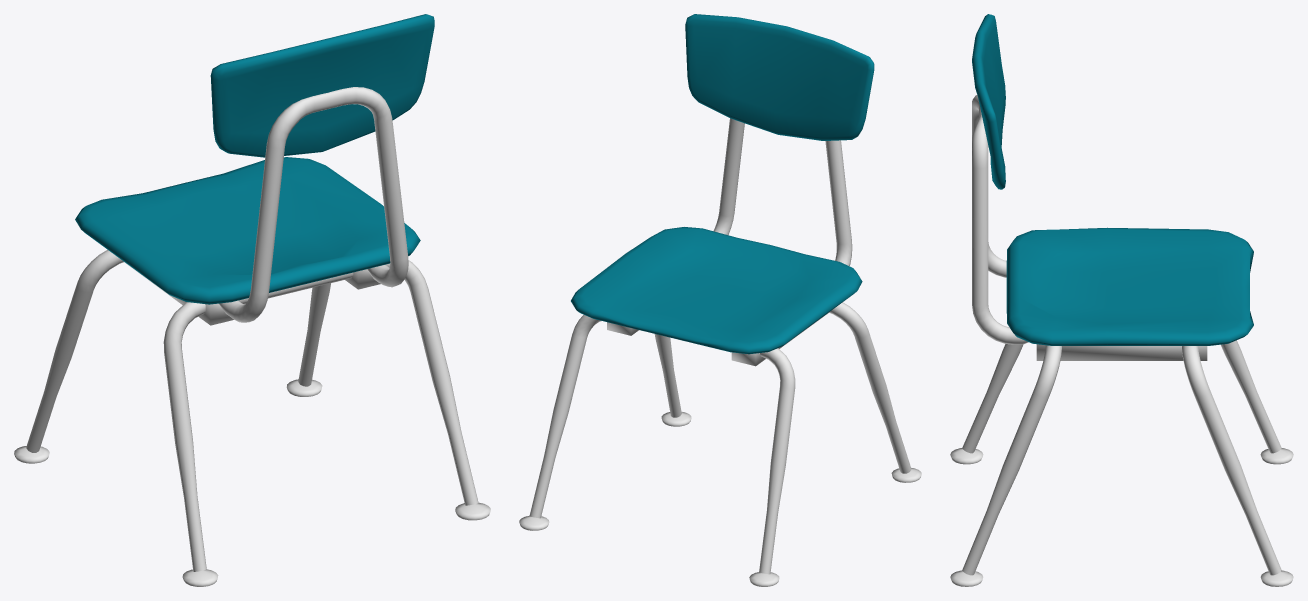
File: doodad_chairStudent_v00_SimpleColors.fbx
3 renders of one model, left to right at view 1: azimuth 30°, elevation 25°; view 2: azimuth 150°, elevation 25°; view 3: azimuth 270°, elevation 25°, orthographic. The views are drawn at different scales.
Parts seen in each view (by area): view 1: polySurface1; view 2: polySurface1; view 3: polySurface1.
Boxes of the visible parts, x1=… form: polySurface1: x1=14, y1=14, x2=490, y2=586; polySurface1: x1=519, y1=14, x2=921, y2=586; polySurface1: x1=950, y1=14, x2=1293, y2=586.
Size of the model in its own units: 1.89 by 3 by 2.01.
